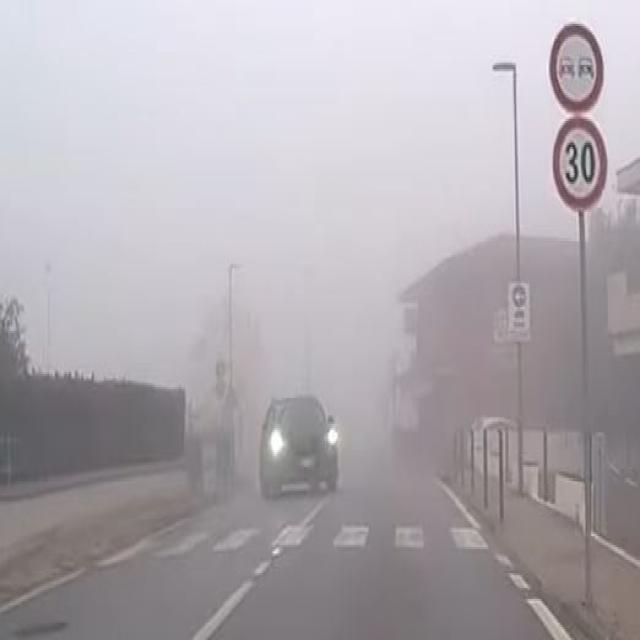Pedestrian crosswalk: (114, 514, 494, 565)
